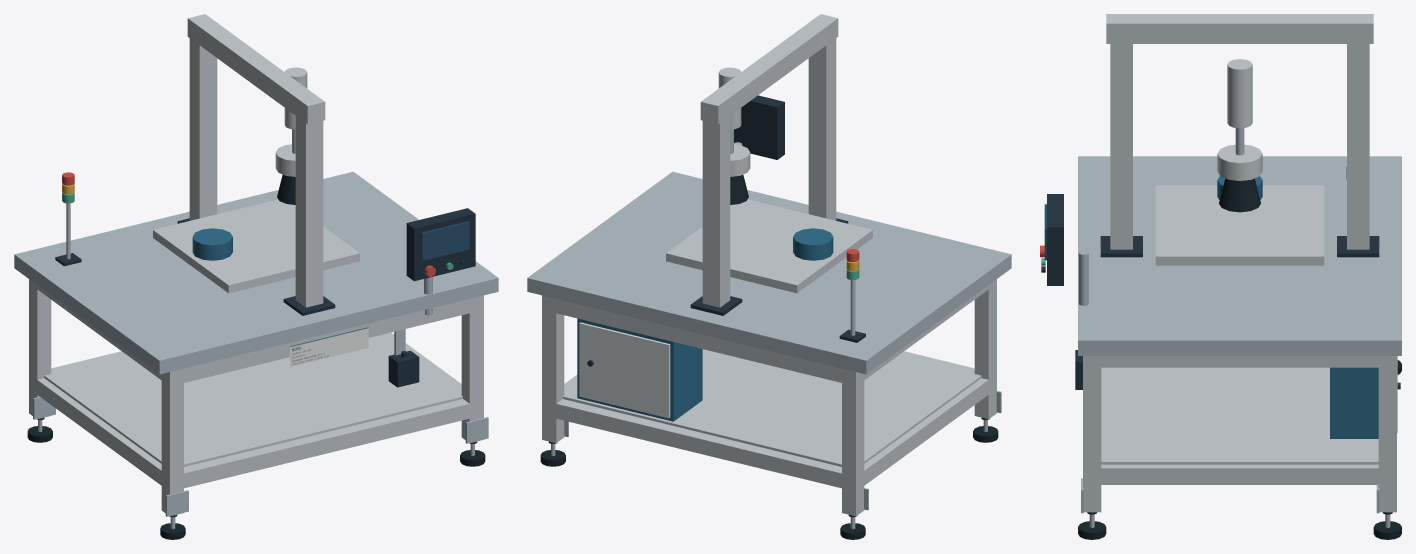
File: pad-print-press.glb
3 renders of one model, left to right at view 1: azimuth 30°, elevation 25°; view 2: azimuth 150°, elevation 25°; view 3: azimuth 270°, elevation 25°, orthographic. The views are drawn at different scales.
Visible parts, largest first — view 1: ClosedMachineBed_28, LowerShelf_29, ClicheTable_53, SlottedExtrusion_22, SlottedExtrusion_50, SlottedExtrusion_48, SlottedExtrusion_52, SlottedExtrusion_23, SlottedExtrusion_8, SlottedExtrusion_24, ConsoleBack_34, SlottedExtrusion_18 (+7 smaller); view 2: ClosedMachineBed_28, LowerShelf_29, ClicheTable_53, BackDoor_31, SlottedExtrusion_20, SlottedExtrusion_48, SlottedExtrusion_50, SlottedExtrusion_52, SlottedExtrusion_21, SlottedExtrusion_3, Cabinet_30, SlottedExtrusion_13 (+6 smaller); view 3: ClosedMachineBed_28, LowerShelf_29, ClicheTable_53, SlottedExtrusion_52, SlottedExtrusion_26, SlottedExtrusion_48, SlottedExtrusion_50, SlottedExtrusion_27, Cabinet_30, SlottedExtrusion_18, SlottedExtrusion_13, PadActuator_57 (+8 smaller).
Part boxes in pixels (left/top/right/bottom): ClosedMachineBed_28: left=14, top=171, right=498, bottom=374; LowerShelf_29: left=44, top=333, right=462, bottom=466; ClicheTable_53: left=153, top=199, right=359, bottom=293; SlottedExtrusion_22: left=177, top=399, right=474, bottom=489; SlottedExtrusion_50: left=295, top=107, right=323, bottom=307; SlottedExtrusion_48: left=189, top=29, right=217, bottom=220; SlottedExtrusion_52: left=187, top=14, right=325, bottom=124; SlottedExtrusion_23: left=177, top=299, right=469, bottom=383; SlottedExtrusion_8: left=161, top=368, right=183, bottom=516; SlottedExtrusion_24: left=33, top=377, right=162, bottom=485; ConsoleBack_34: left=406, top=208, right=475, bottom=281; SlottedExtrusion_18: left=461, top=295, right=483, bottom=442; ClosedMachineBed_28: left=527, top=171, right=1011, bottom=374; LowerShelf_29: left=563, top=349, right=981, bottom=466; ClicheTable_53: left=666, top=199, right=872, bottom=293; BackDoor_31: left=579, top=322, right=670, bottom=418; SlottedExtrusion_20: left=549, top=399, right=847, bottom=488; SlottedExtrusion_48: left=702, top=107, right=730, bottom=307; SlottedExtrusion_50: left=808, top=29, right=836, bottom=220; SlottedExtrusion_52: left=700, top=14, right=838, bottom=124; SlottedExtrusion_21: left=550, top=299, right=848, bottom=384; SlottedExtrusion_3: left=842, top=368, right=864, bottom=516; Cabinet_30: left=577, top=318, right=702, bottom=421; SlottedExtrusion_13: left=542, top=295, right=564, bottom=442; ClosedMachineBed_28: left=1078, top=156, right=1401, bottom=355; LowerShelf_29: left=1101, top=367, right=1378, bottom=464; ClicheTable_53: left=1155, top=185, right=1324, bottom=265; SlottedExtrusion_52: left=1106, top=14, right=1373, bottom=43; SlottedExtrusion_26: left=1092, top=464, right=1387, bottom=484; SlottedExtrusion_48: left=1347, top=33, right=1369, bottom=249; SlottedExtrusion_50: left=1110, top=33, right=1132, bottom=249; SlottedExtrusion_27: left=1092, top=356, right=1387, bottom=367; Cabinet_30: left=1330, top=367, right=1378, bottom=438; SlottedExtrusion_18: left=1083, top=356, right=1101, bottom=512; SlottedExtrusion_13: left=1378, top=356, right=1396, bottom=512; PadActuator_57: left=1227, top=59, right=1252, bottom=128.
Size of the model in its own units: 1.55 by 1.7 by 1.29.
Materials: 11 (1 with a texture image).
